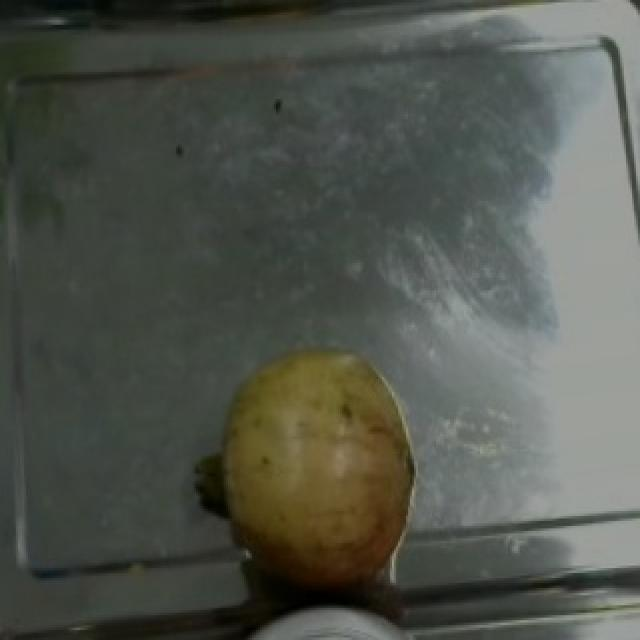fruit: (182, 322, 436, 600)
